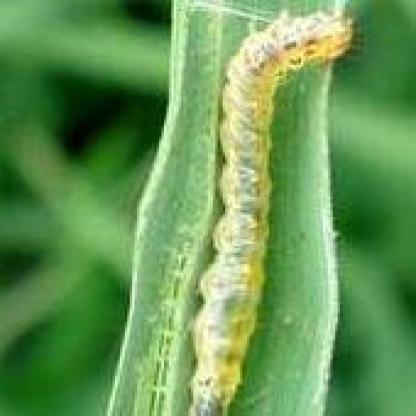leaf-folder: (162, 11, 352, 411)
